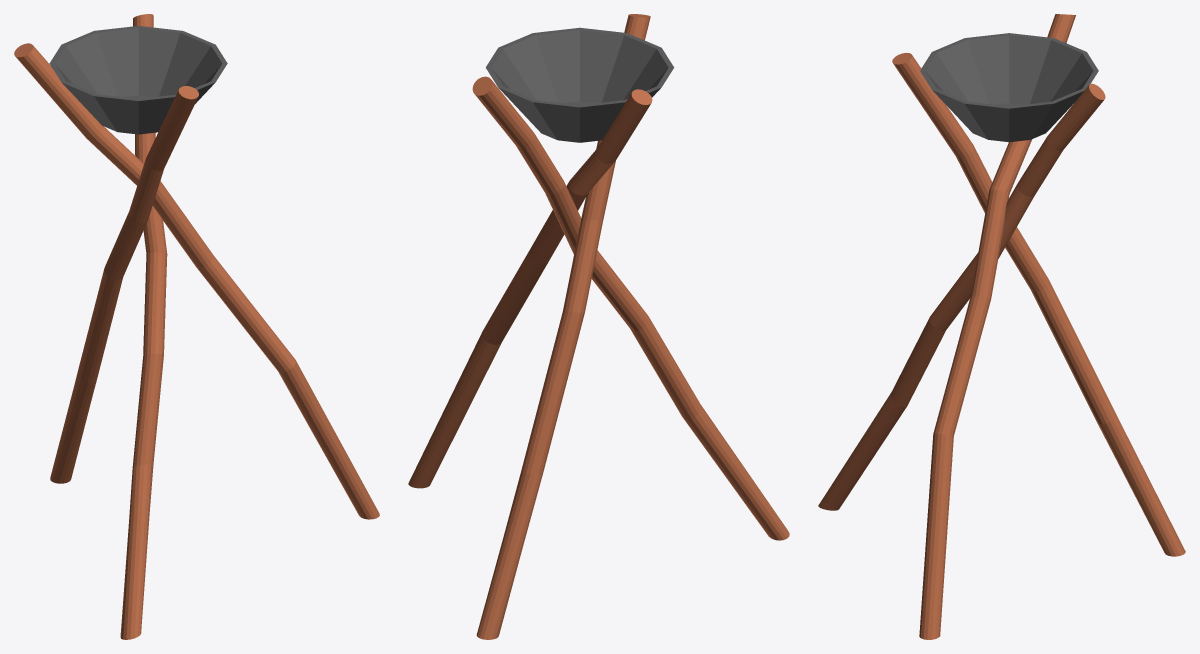
File: Torch_Outside_01.fbx
3 renders of one model, left to right at view 1: azimuth 30°, elevation 25°; view 2: azimuth 150°, elevation 25°; view 3: azimuth 270°, elevation 25°, orthographic. The views are drawn at different scales.
Visible parts, largest first — view 1: Torch_outside_01; view 2: Torch_outside_01; view 3: Torch_outside_01.
Boxes of the visible parts, left/top/right/bottom form: Torch_outside_01: left=14, top=14, right=379, bottom=639; Torch_outside_01: left=408, top=14, right=789, bottom=639; Torch_outside_01: left=818, top=14, right=1185, bottom=639.
Size of the model in its own units: 11.54 by 18.05 by 11.91.
